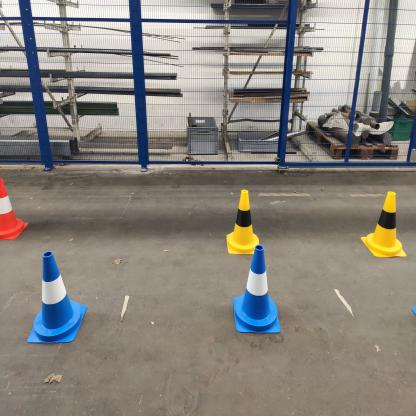Cones_small_blue: (23, 240, 90, 353), (227, 241, 287, 347)
Cones_small_orange: (0, 176, 35, 246)
Cones_small_yellow: (354, 184, 408, 266), (214, 181, 266, 252)
